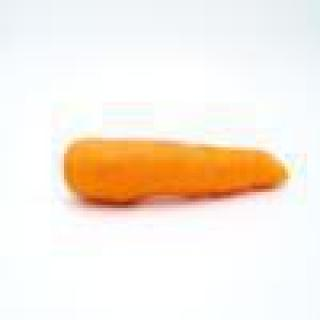Wortel: (43, 110, 305, 260)
